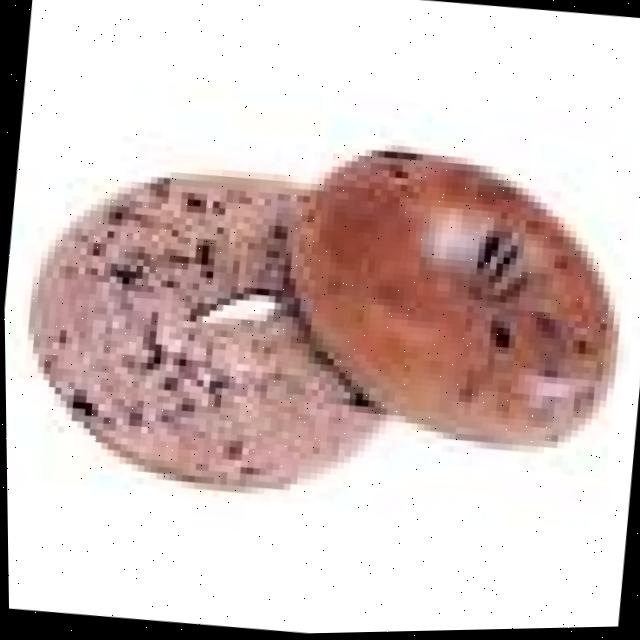Bagel: (32, 180, 374, 485), (292, 152, 615, 441)
